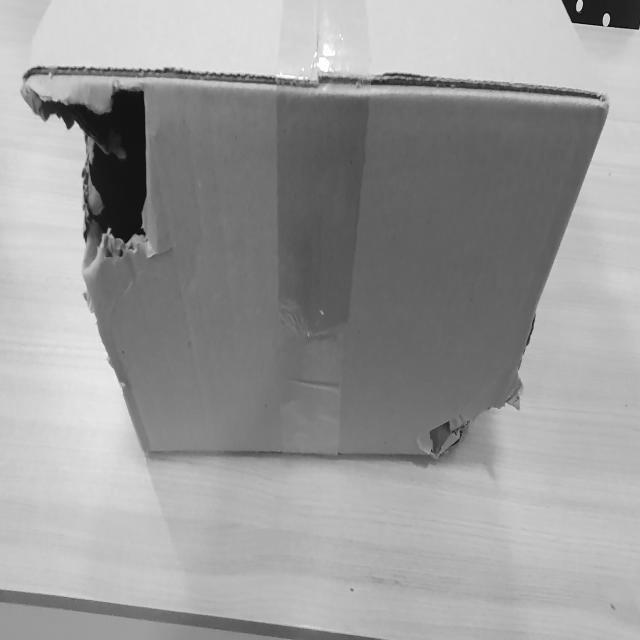hole: (28, 65, 156, 269), (418, 406, 469, 460)
